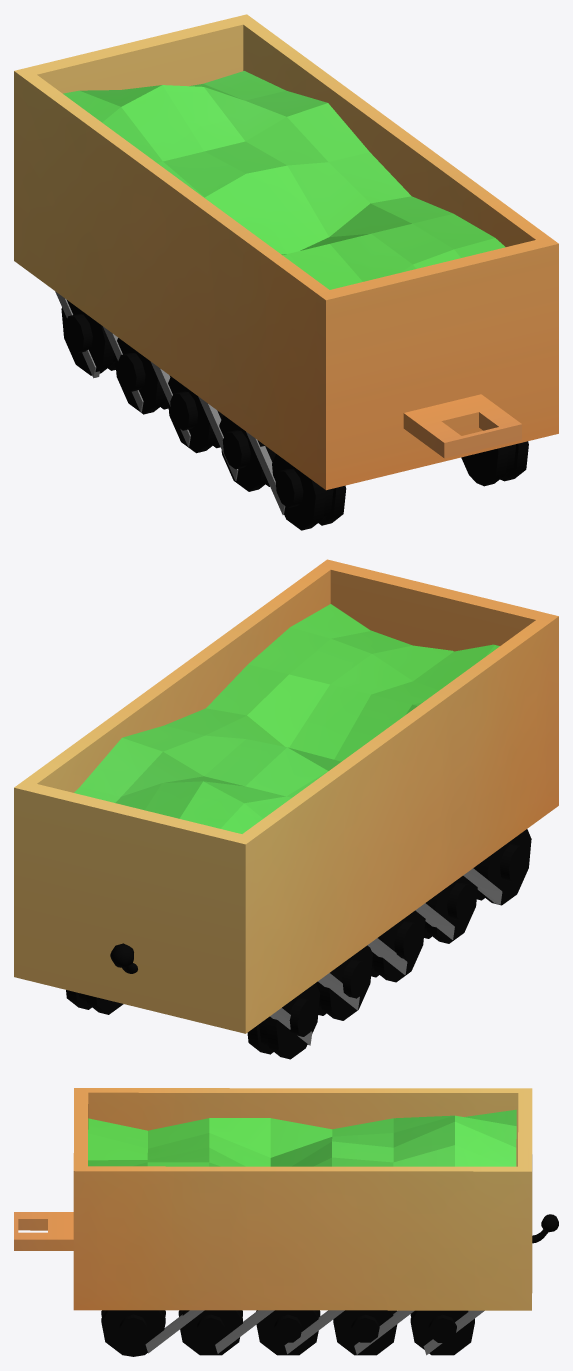
File: Train_02.fbx
The picture shows the model from 3 angles, top to bottom: view 1: azimuth 30°, elevation 25°; view 2: azimuth 150°, elevation 25°; view 3: azimuth 270°, elevation 25°; orthographic projection. The views are drawn at different scales.
Parts seen in each view (by area): view 1: Train_02; view 2: Train_02; view 3: Train_02.
Boxes of the visible parts, left/top/right/bottom form: Train_02: left=14, top=14, right=558, bottom=530; Train_02: left=14, top=559, right=558, bottom=1059; Train_02: left=14, top=1088, right=558, bottom=1356.
Size of the model in its own units: 289 by 307 by 796.
1 material, 1 textured.
